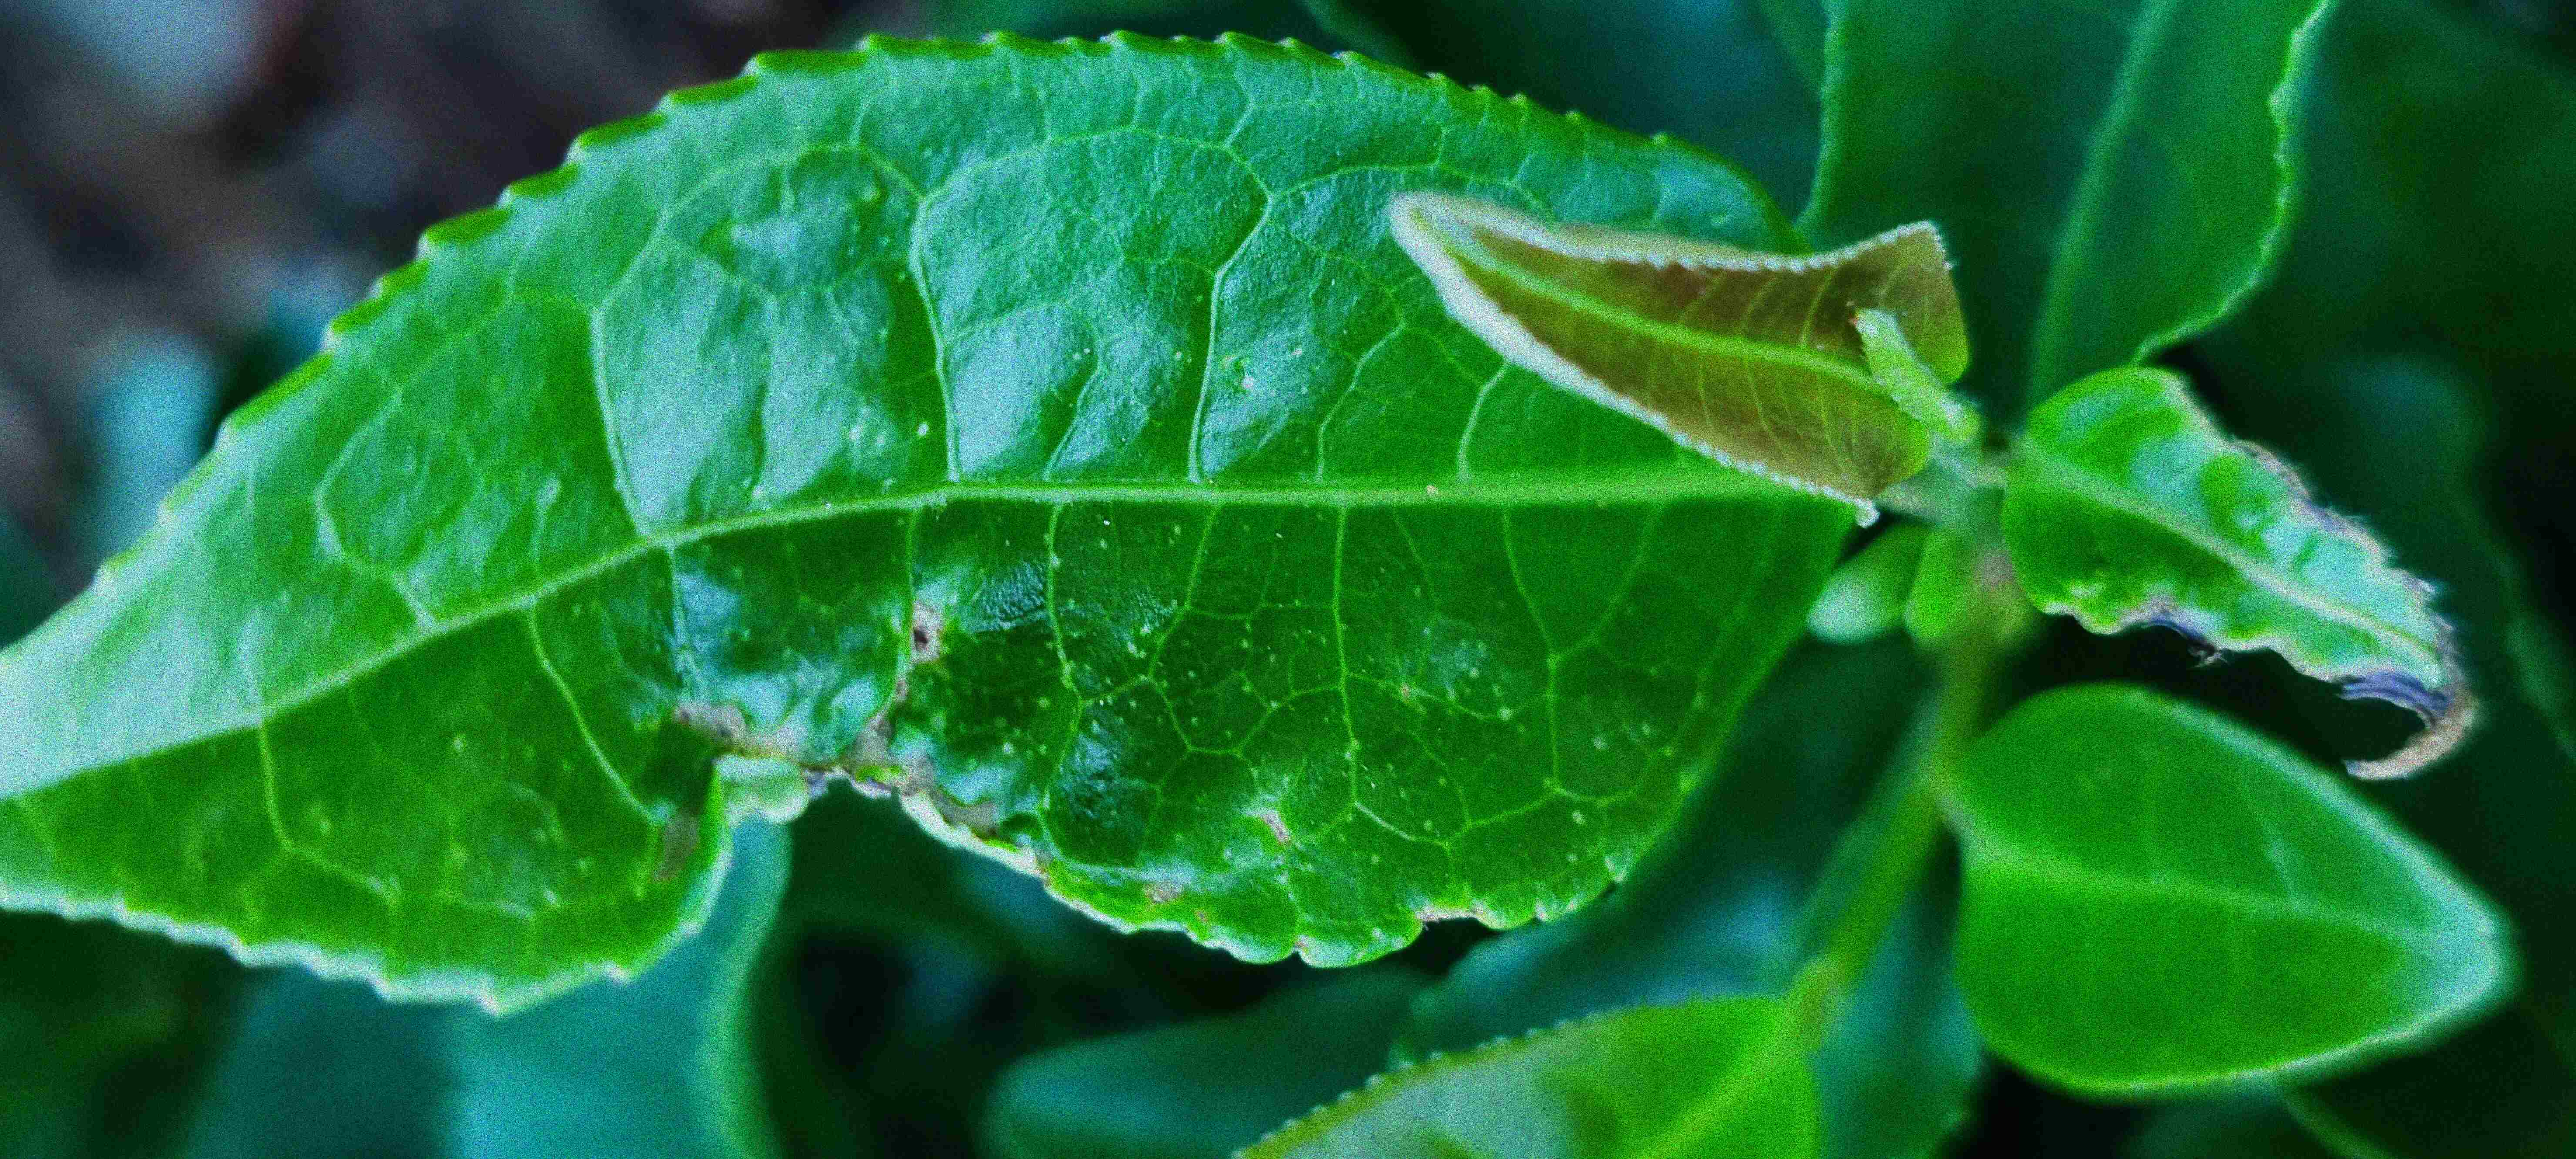chihuo_high: (1981, 358, 2487, 785)
chihuo_low: (5, 23, 1888, 1028)
healthy: (1927, 676, 2512, 1097)
tanju_low: (1387, 199, 1994, 532)
